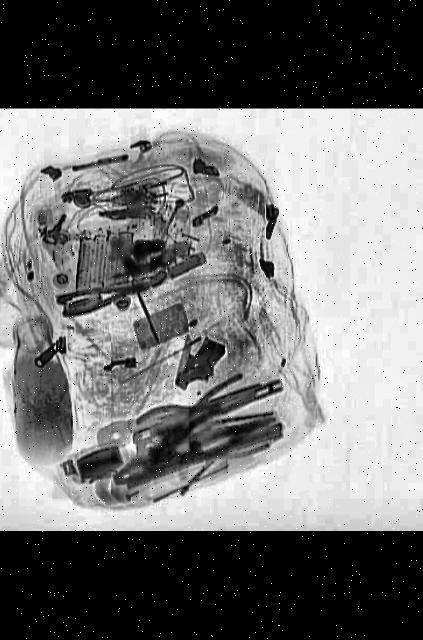Pliers: (56, 274, 160, 320)
